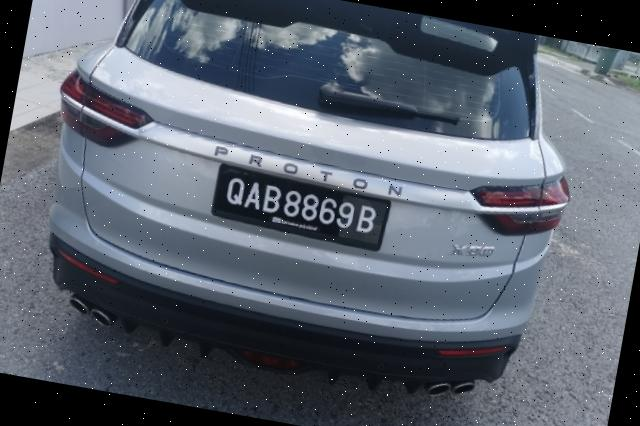License_Plate: (210, 163, 394, 254)
car: (15, 1, 606, 426)
